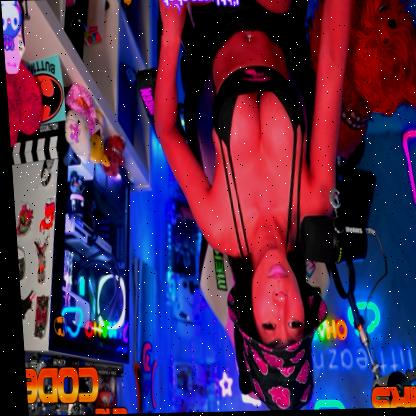streamer: (144, 0, 376, 413)
